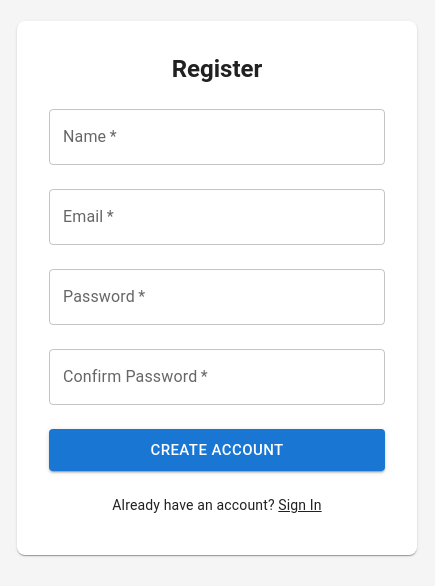
Register flow › should show error when passwords do not match
Type "Test User" into the field named "name".
click(217, 137); type("Test User")  # box x1=49 y1=109 x2=385 y2=165
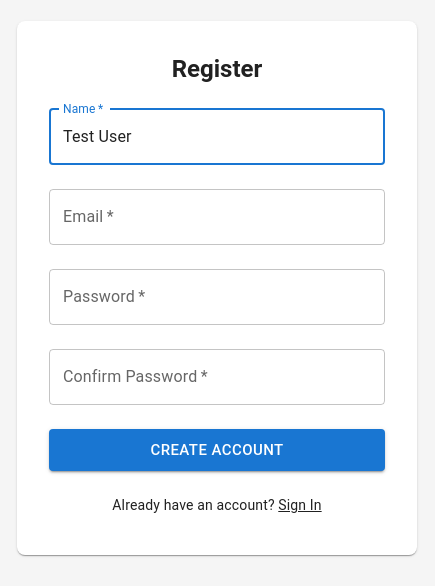
Type "test@user.com" into the field named "email".
click(217, 217); type("test@user.com")  # box x1=49 y1=189 x2=385 y2=245
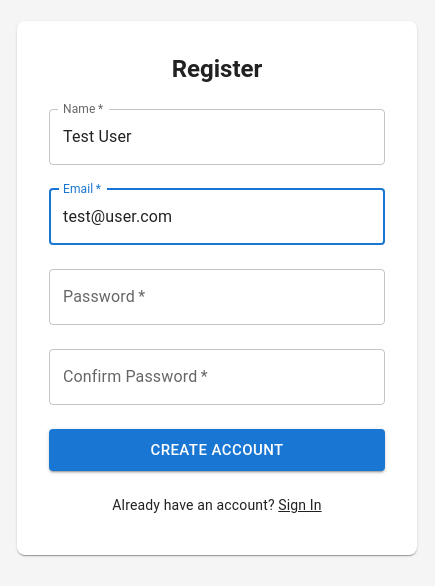
Type "123456" into the password field named "password".
click(217, 297); type("123456")  # box x1=49 y1=269 x2=385 y2=325
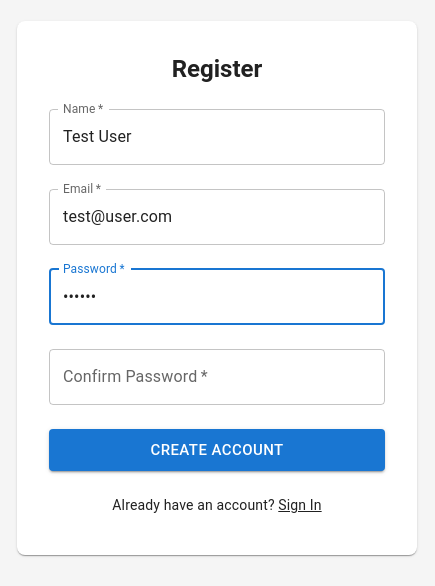
Type "654321" into the password field named "confirmPassword".
click(217, 377); type("654321")  # box x1=49 y1=349 x2=385 y2=405
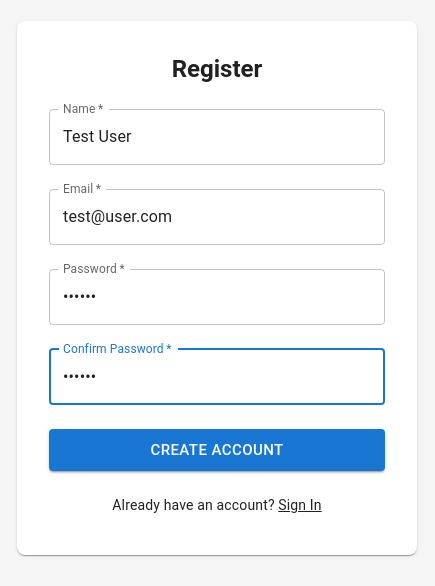
Submit the form, box x1=49 y1=109 x2=385 y2=515
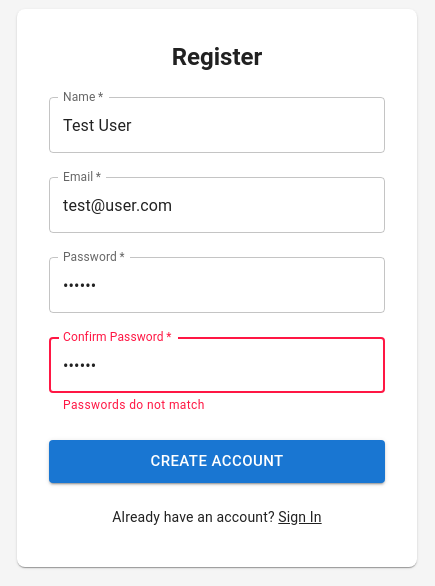
Result: the text "Passwords do not match" is shown at x1=63 y1=398 x2=205 y2=412
